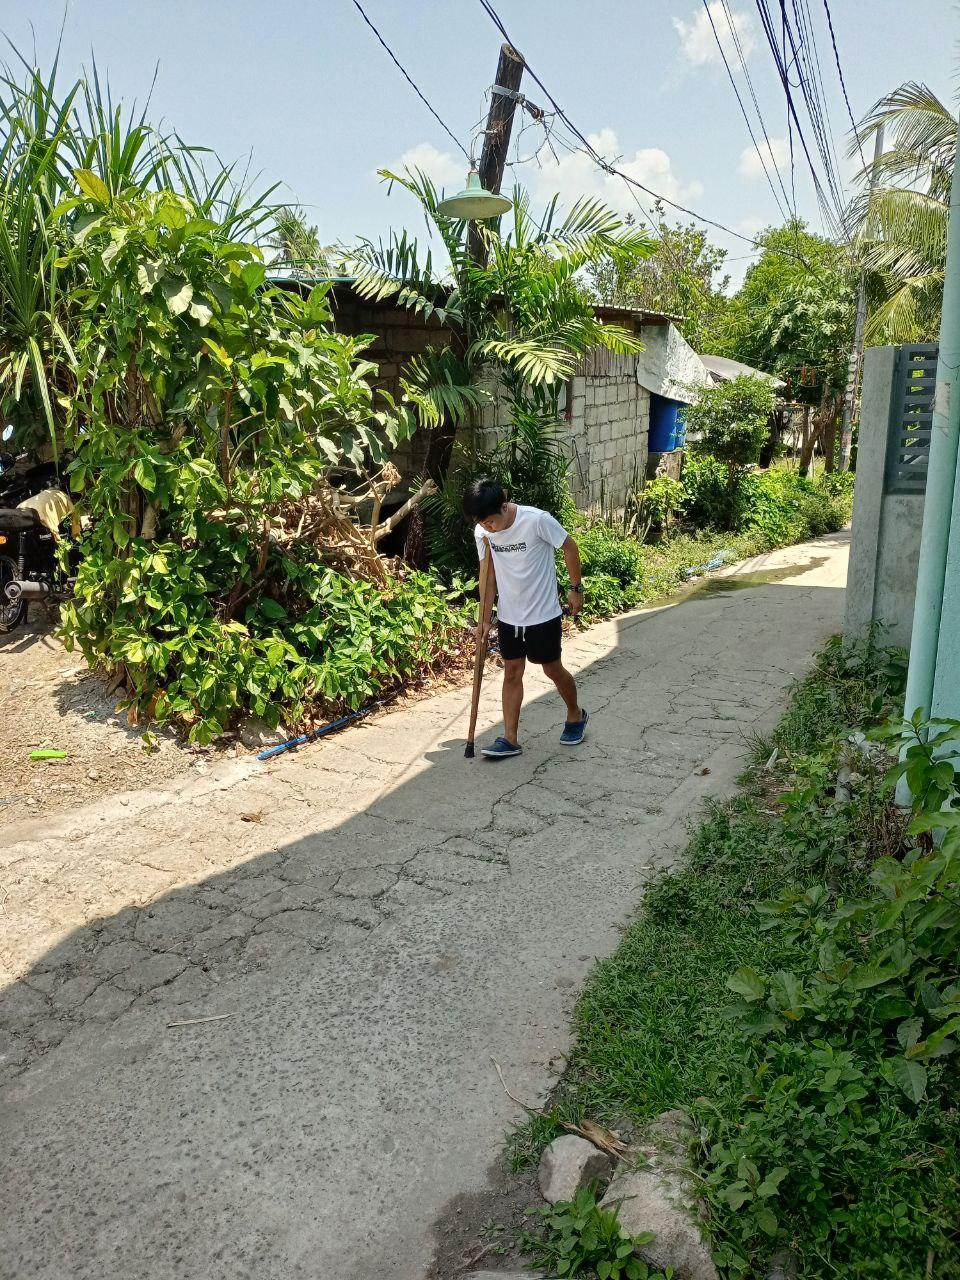crutches: (461, 479, 588, 758)
